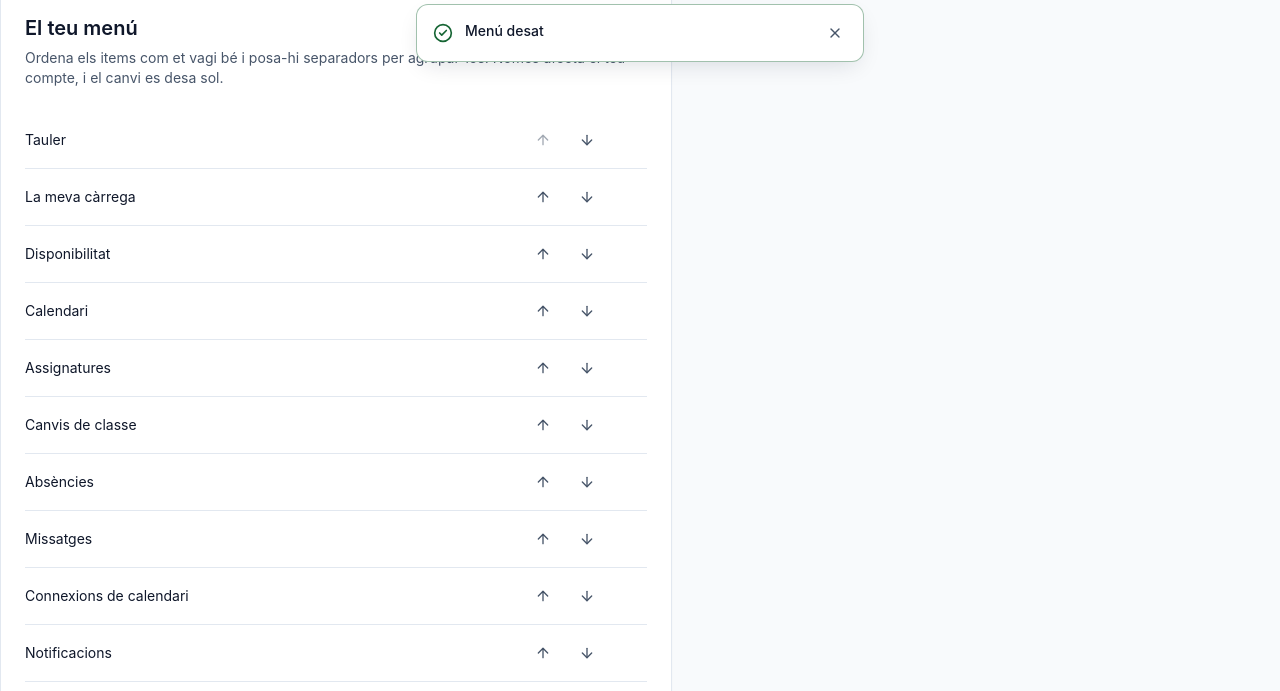
Test: arranging your own menu › puts the draft back when it is discarded
Click the button named "Baixa Tauler" at (587, 140), box left=567, top=120, right=607, bottom=160
(page scrolled)
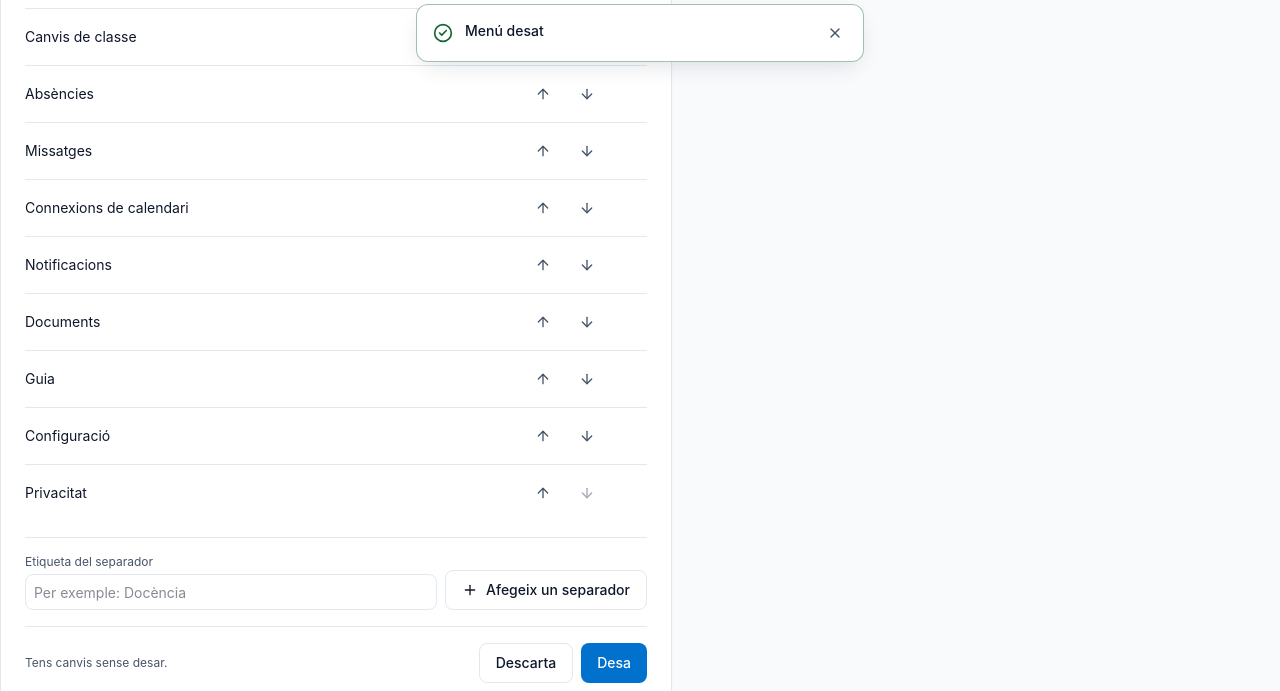
Click the button "Descarta" at (526, 663), box left=479, top=643, right=573, bottom=683
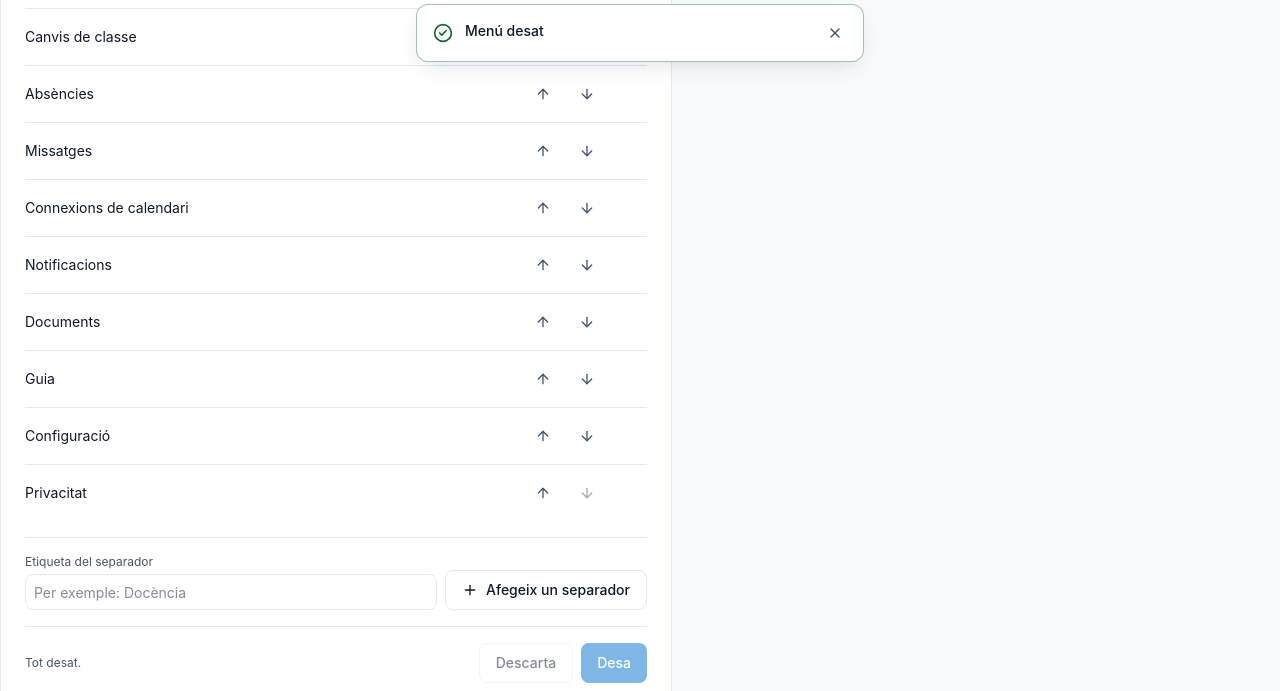
Expected: the text "Tot desat." is shown, left=25, top=655, right=81, bottom=671
